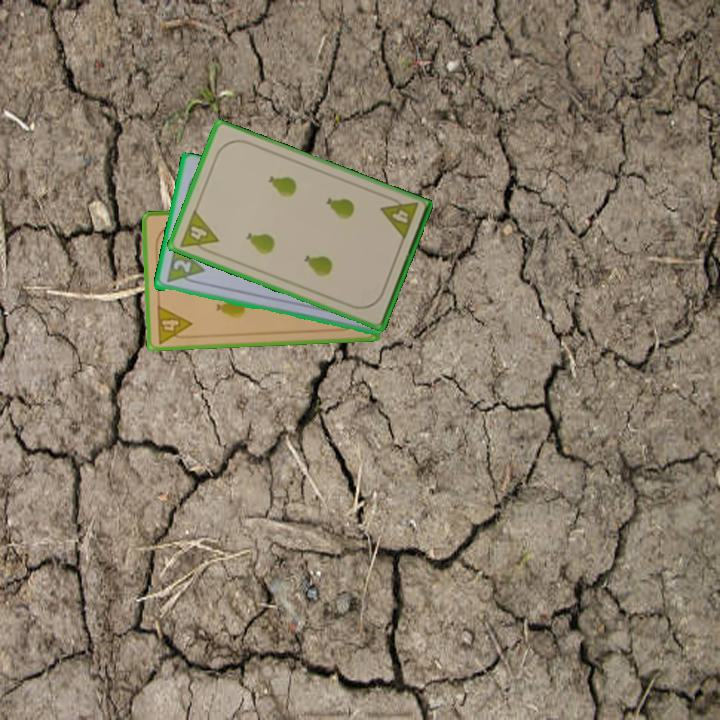2p: (169, 256, 194, 276)
4p: (176, 207, 221, 258), (377, 192, 421, 243), (153, 302, 195, 346)
